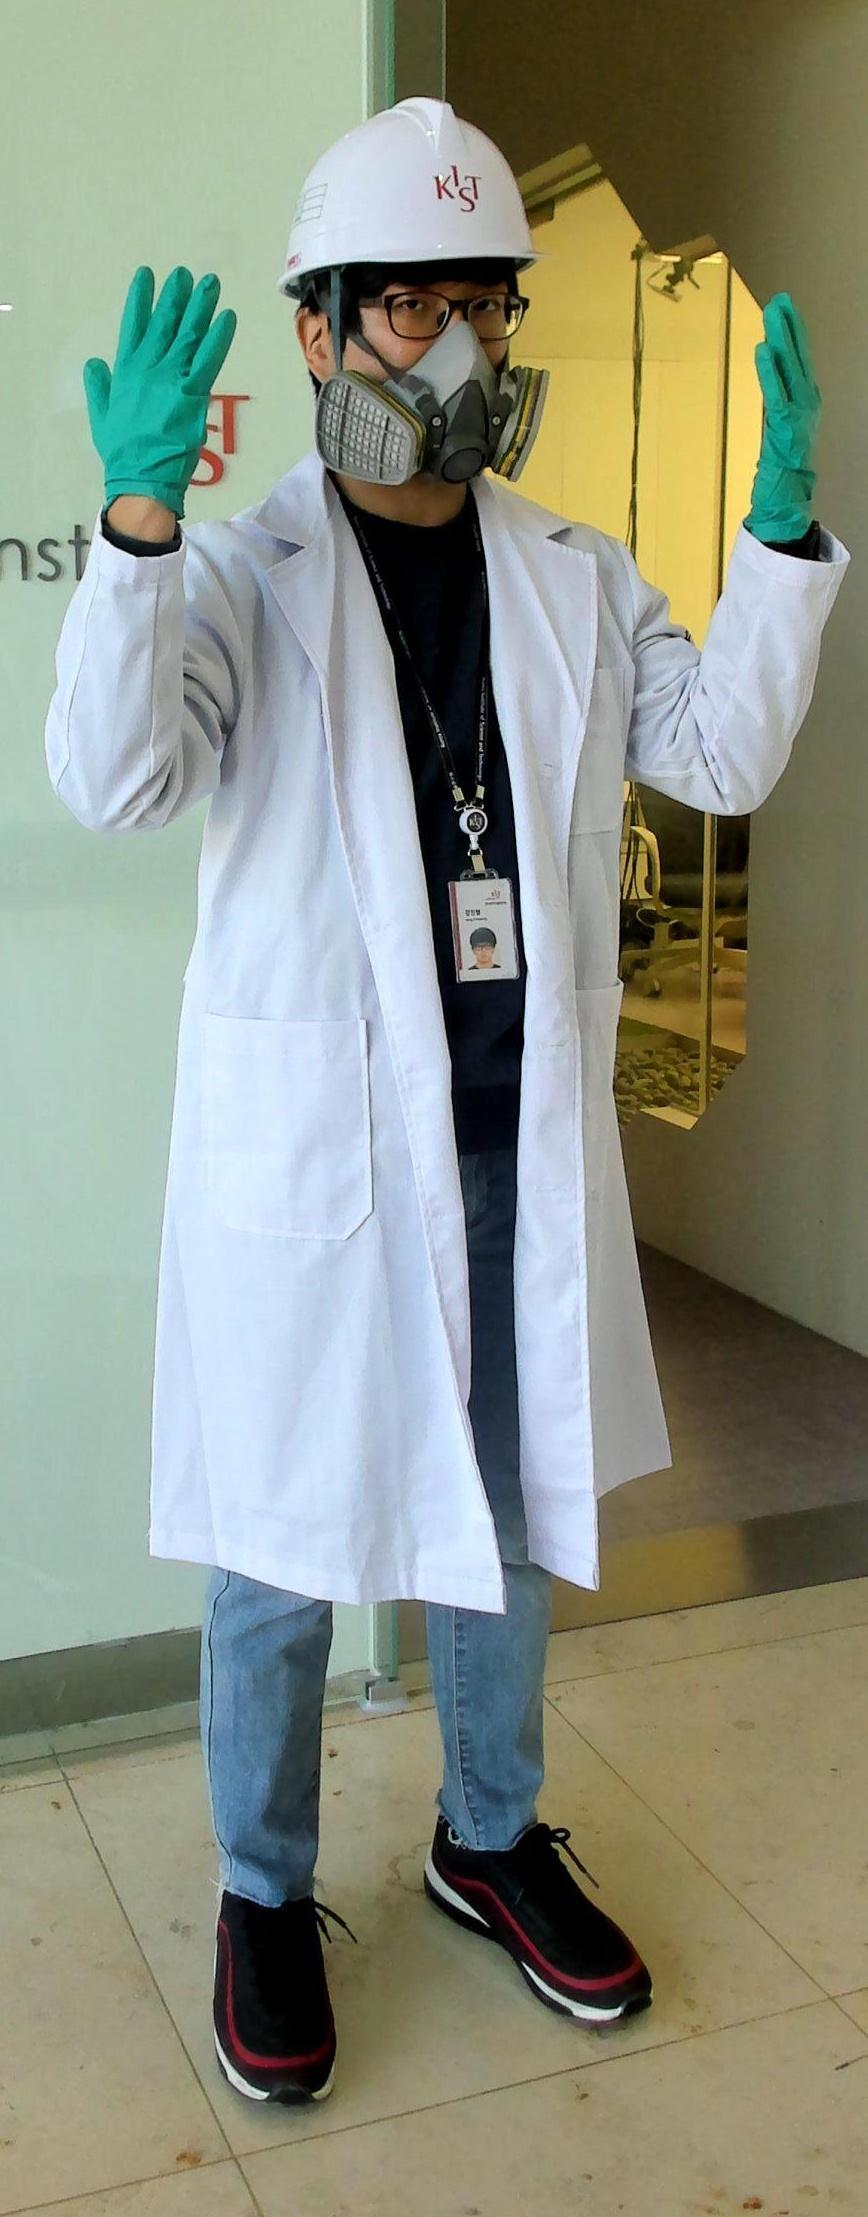lab_coat: (184, 526, 650, 1586)
